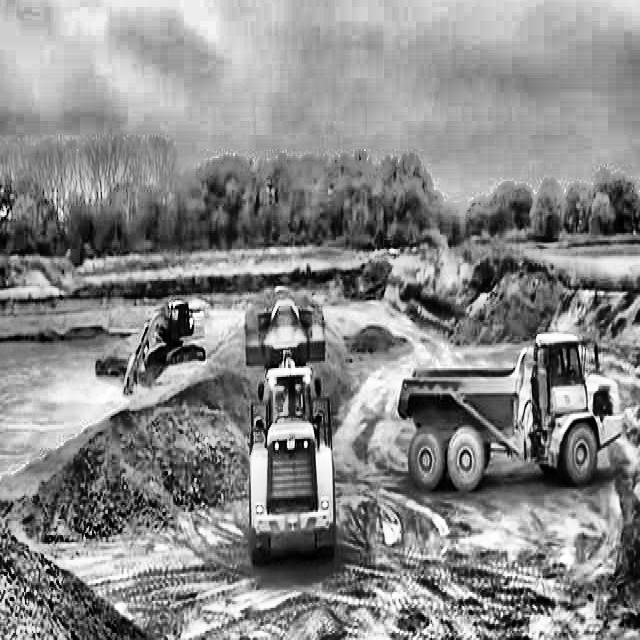buldozerpayloadergrader: (239, 281, 339, 572)
dump_truck: (394, 322, 626, 492)
excavator: (116, 297, 209, 402)
